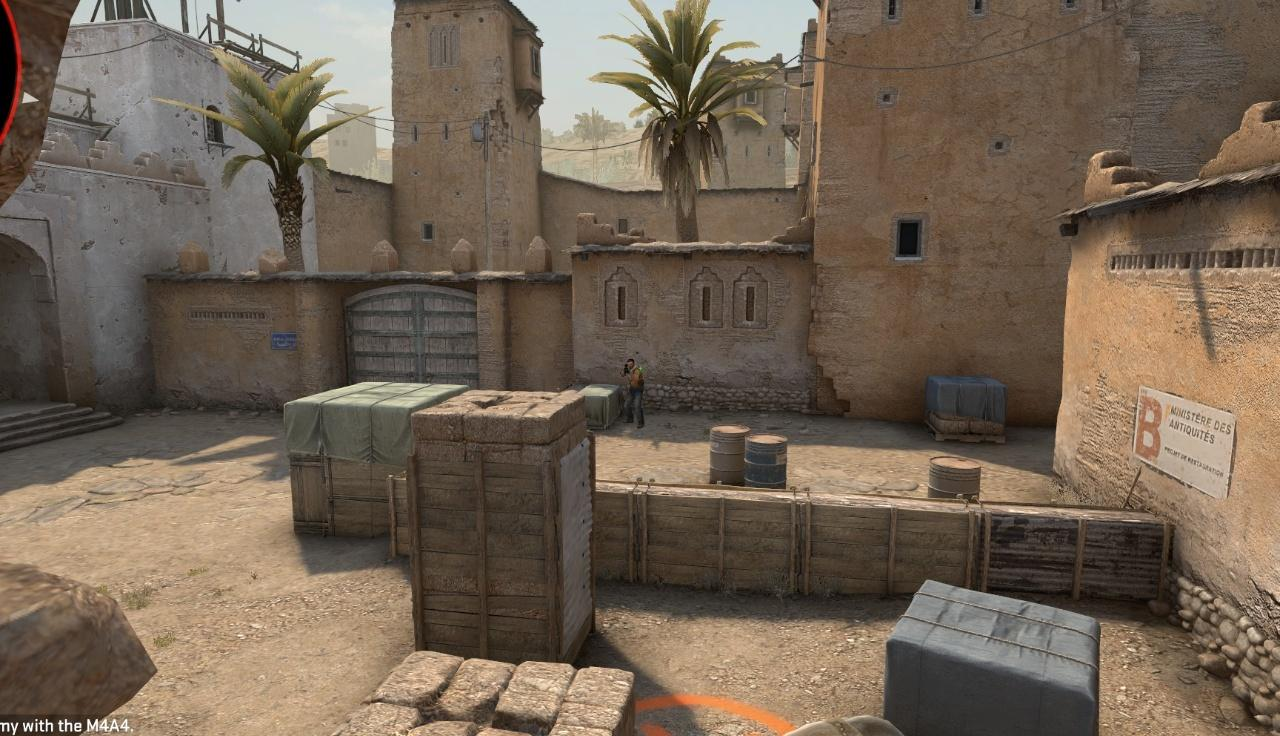tt: (621, 360, 644, 428)
tthead: (627, 359, 634, 370)
